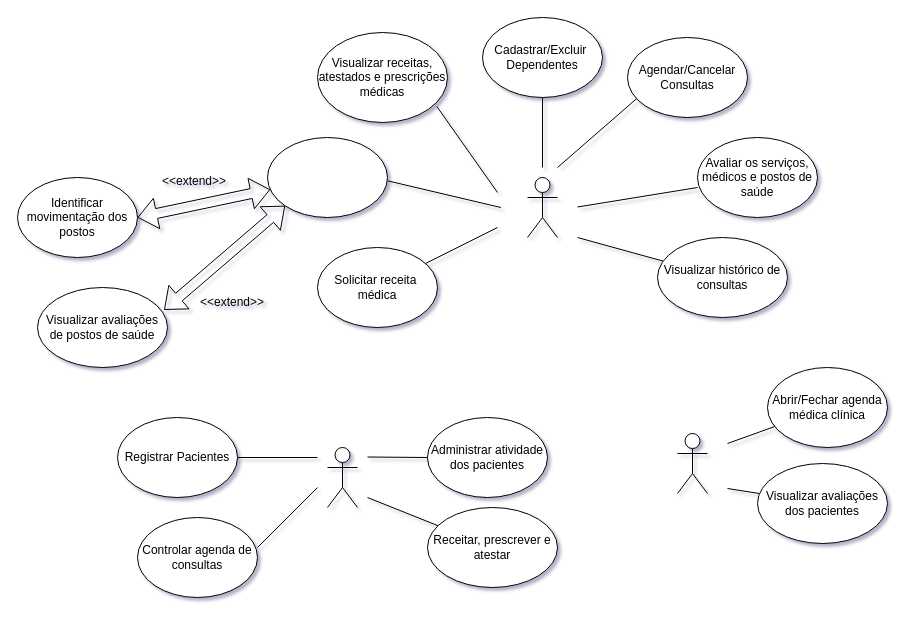
The diagram is 911 pixels wide and 621 high, and some of its shapes have lost their labels. Each missing label, with the centre of its shape:
Hospital: the point at 692,463
Médico: the point at 342,477
Paciente: the point at 542,207
Visualizar postos próximos: the point at 327,177
